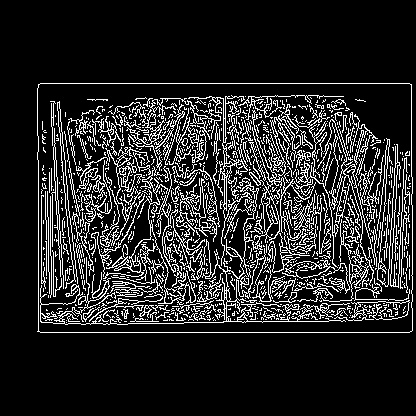buddha-sitting: (268, 127, 347, 302)
